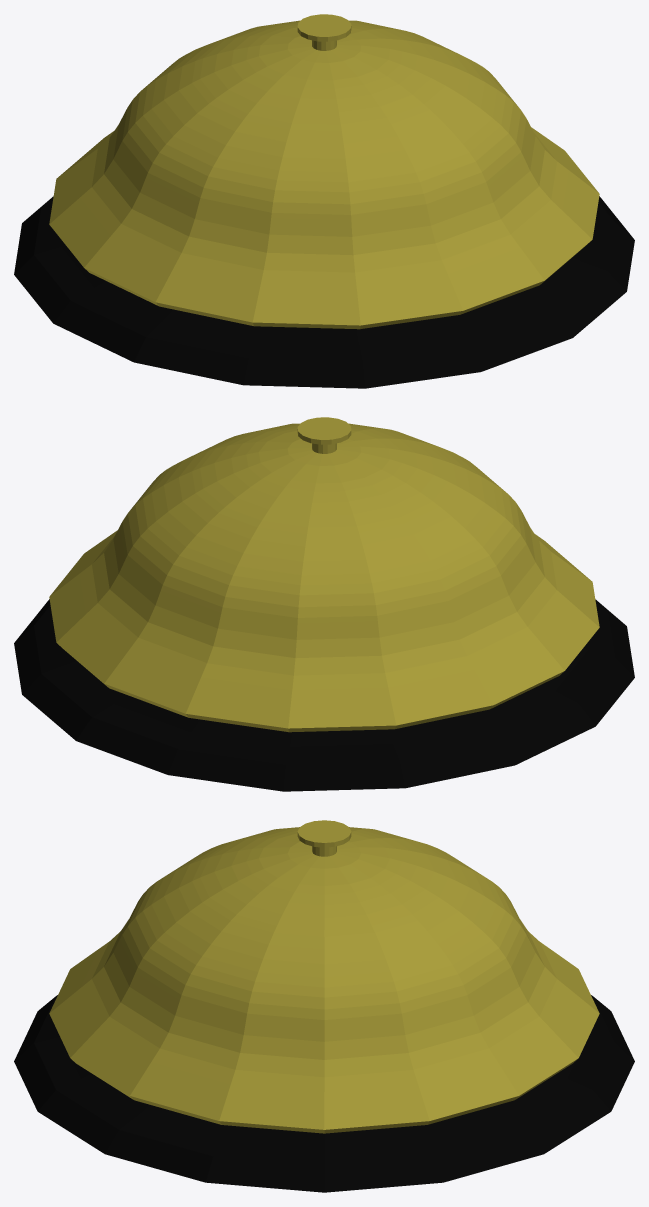
File: Bell.glb
3 views of the same model, one above another, from view 1: azimuth 30°, elevation 25°; view 2: azimuth 150°, elevation 25°; view 3: azimuth 270°, elevation 25° (orthographic).
Parts seen in each view (by area): view 1: Bell, Base, Pin; view 2: Bell, Base, Pin; view 3: Bell, Base, Pin.
Part boxes in pixels (<box>): Bell: <box>49,20,599,329</box>; Base: <box>14,196,634,388</box>; Pin: <box>297,14,351,50</box>; Bell: <box>49,423,599,732</box>; Base: <box>14,599,634,791</box>; Pin: <box>297,417,351,453</box>; Bell: <box>49,827,599,1133</box>; Base: <box>14,995,634,1192</box>; Pin: <box>297,820,351,856</box>.
Bounding box in the file's own units: 2 × 0.8167 × 2.
